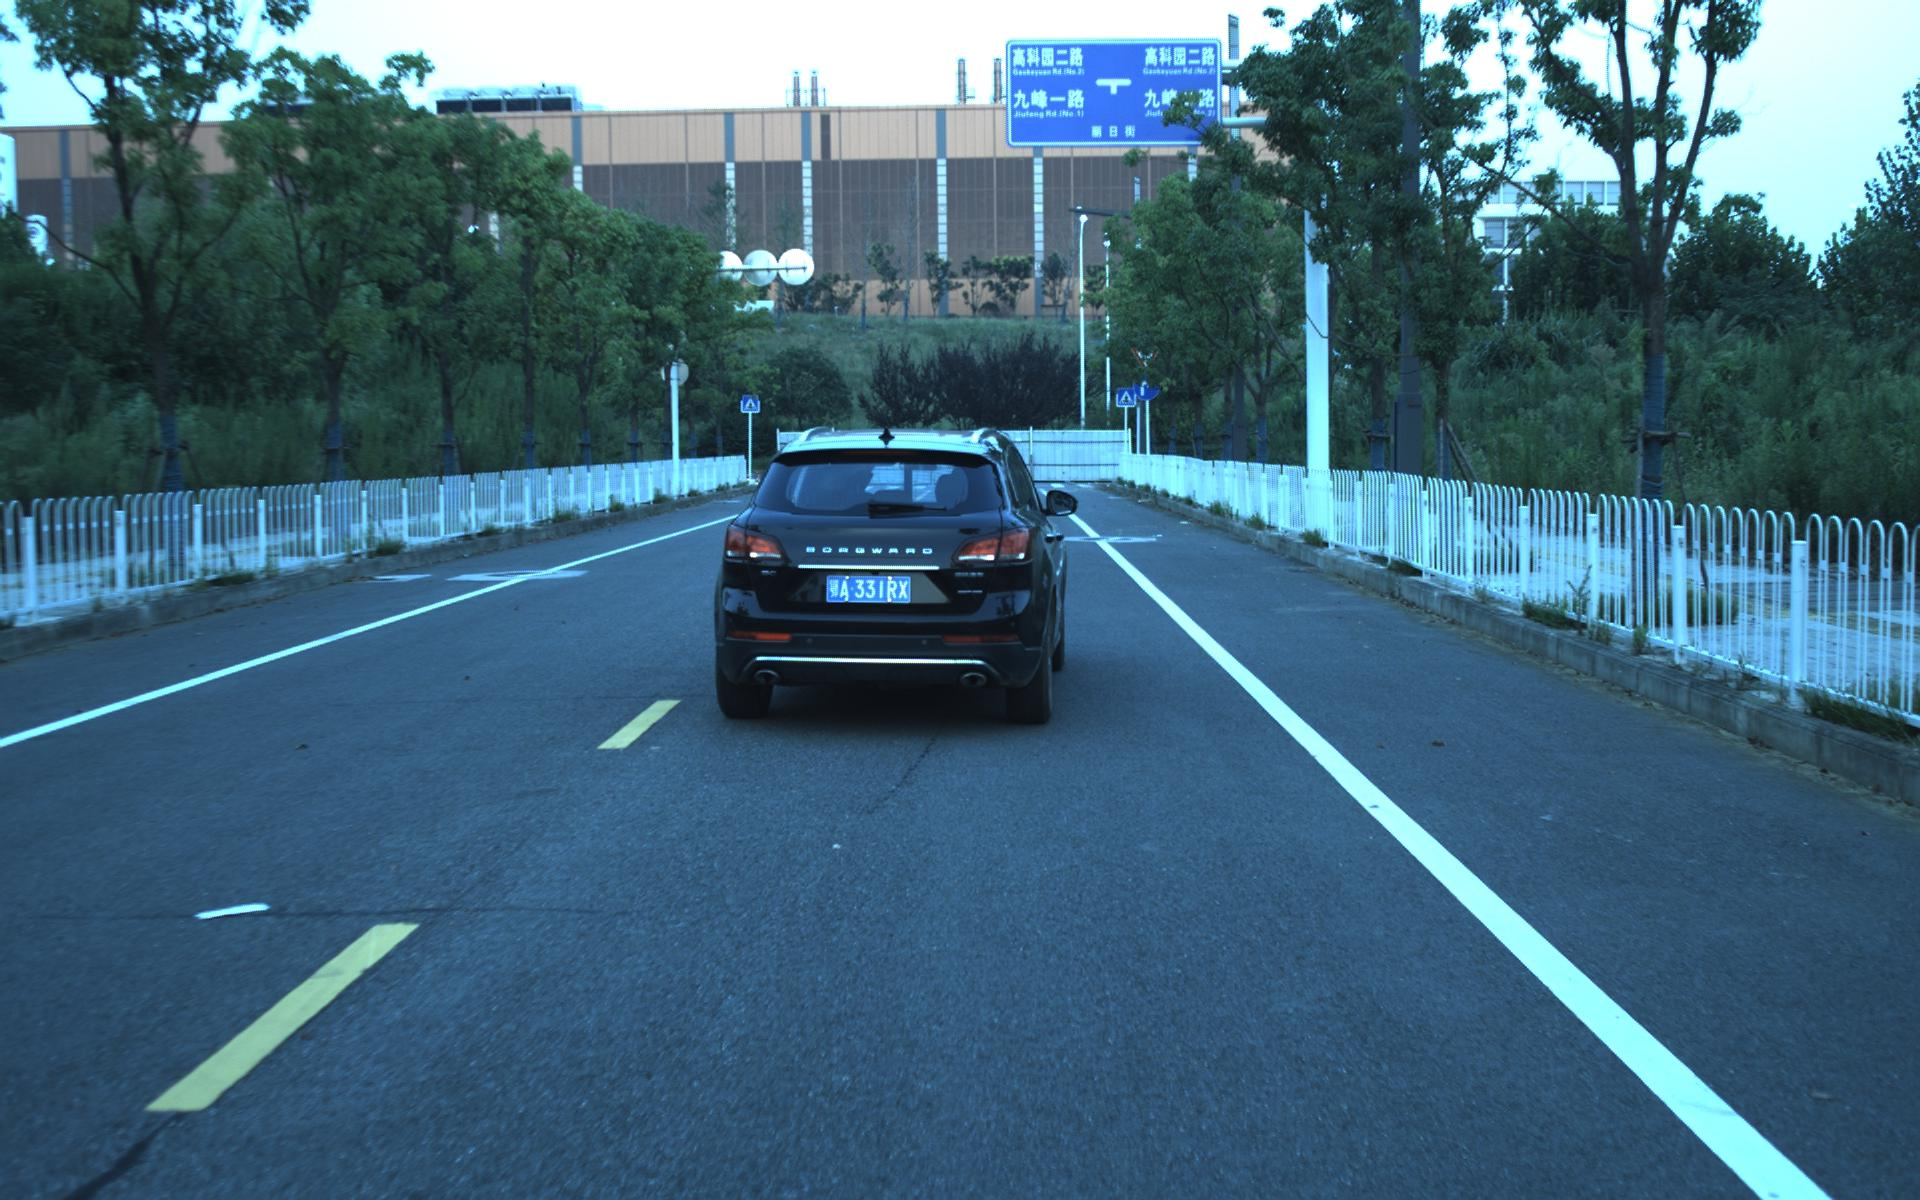Car: (708, 419, 1064, 730)
